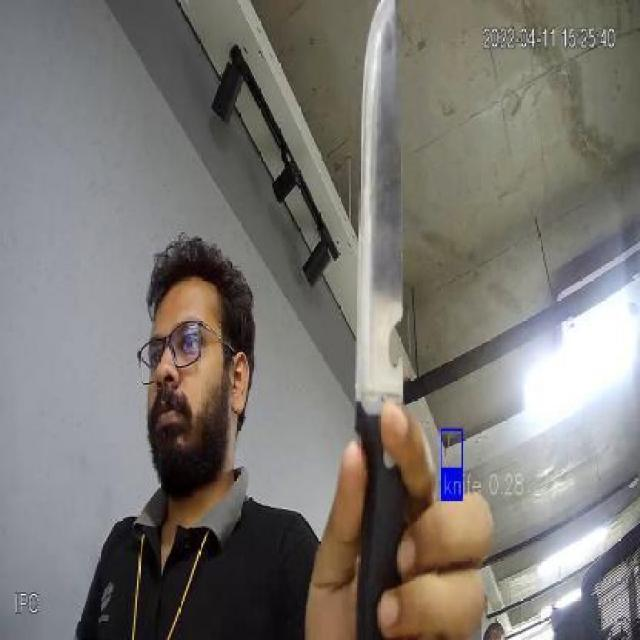-: (337, 0, 426, 502)
